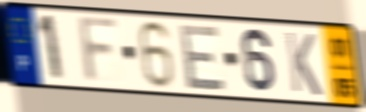1: (37, 13, 66, 83)
6: (138, 19, 177, 91), (240, 27, 278, 95)
E: (178, 23, 229, 92)
F: (76, 15, 121, 87)
K: (283, 29, 324, 99)
